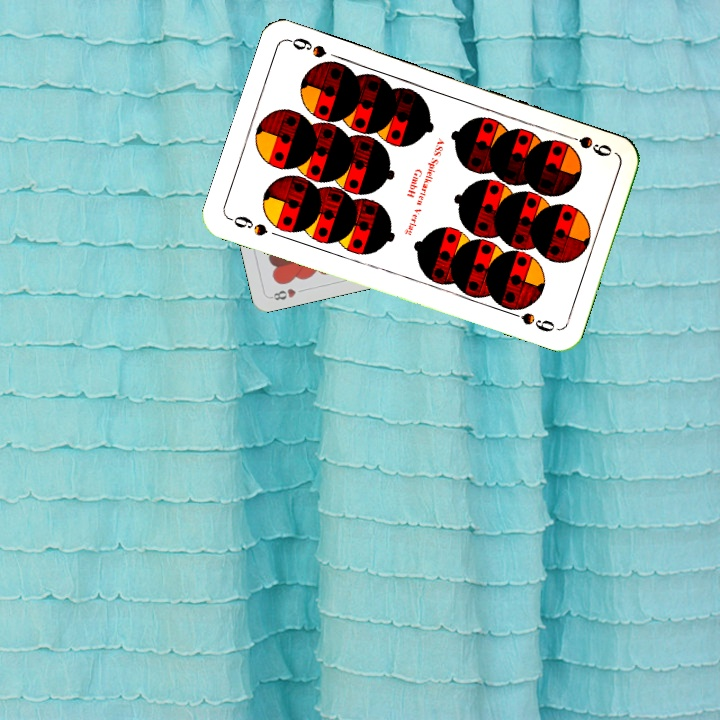H8: (267, 284, 298, 303)
S9: (559, 129, 615, 159), (225, 212, 271, 239)
